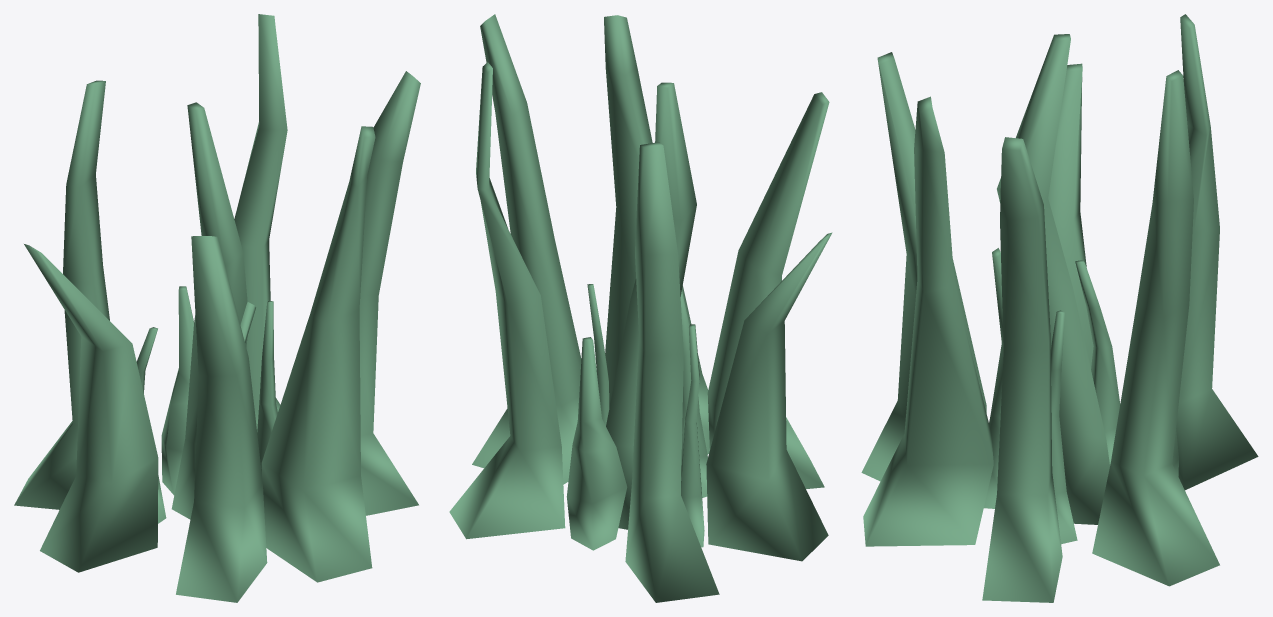
Rendered from Grass2.fbx.
The picture shows the model from 3 angles, left to right: view 1: azimuth 30°, elevation 25°; view 2: azimuth 150°, elevation 25°; view 3: azimuth 270°, elevation 25°; orthographic projection. The views are drawn at different scales.
Parts seen in each view (by area): view 1: Grass2; view 2: Grass2; view 3: Grass2.
Boxes of the visible parts, box(x1,y1,x2,y2) form: Grass2: box(14, 14, 420, 602); Grass2: box(449, 14, 832, 602); Grass2: box(861, 14, 1258, 602).
Bounding box in the file's own units: 31.12 × 36.46 × 26.71.
